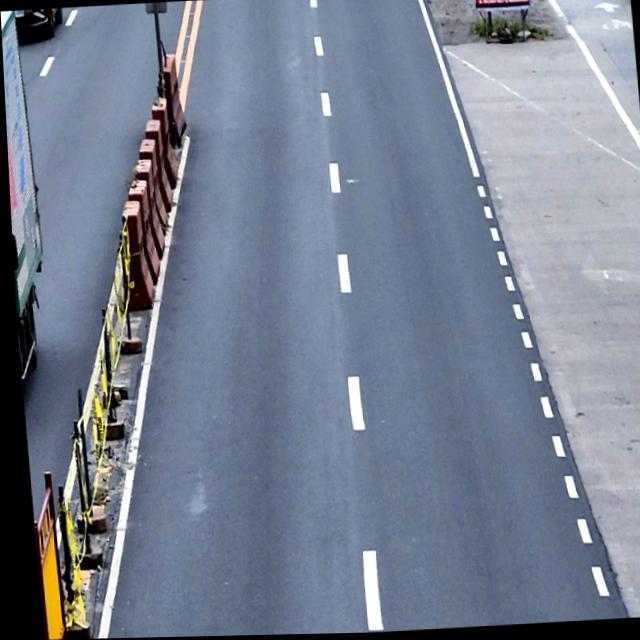Car: (10, 8, 67, 46)
License-Plate: (13, 10, 24, 17)
Truck: (0, 9, 52, 388)
